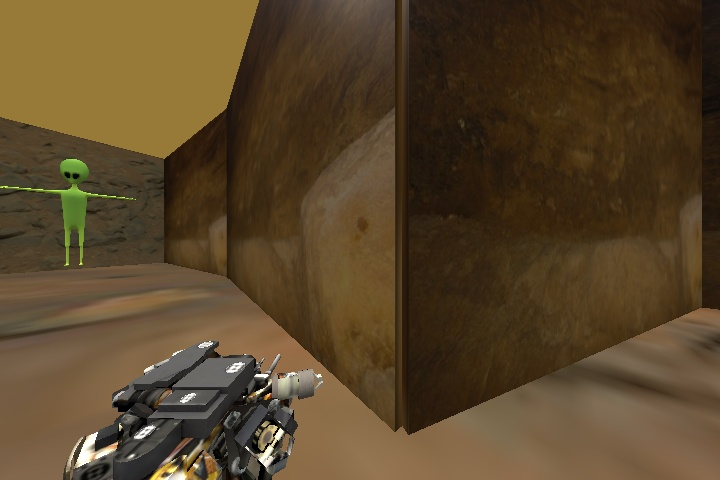alien: (1, 156, 138, 270)
